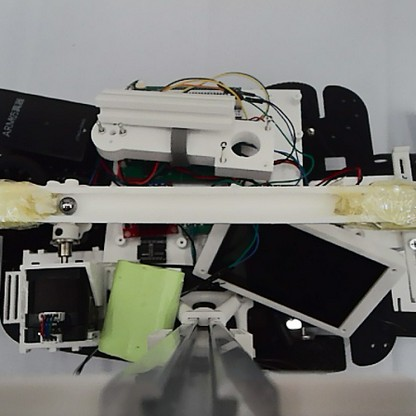ironball: (56, 192, 78, 216)
